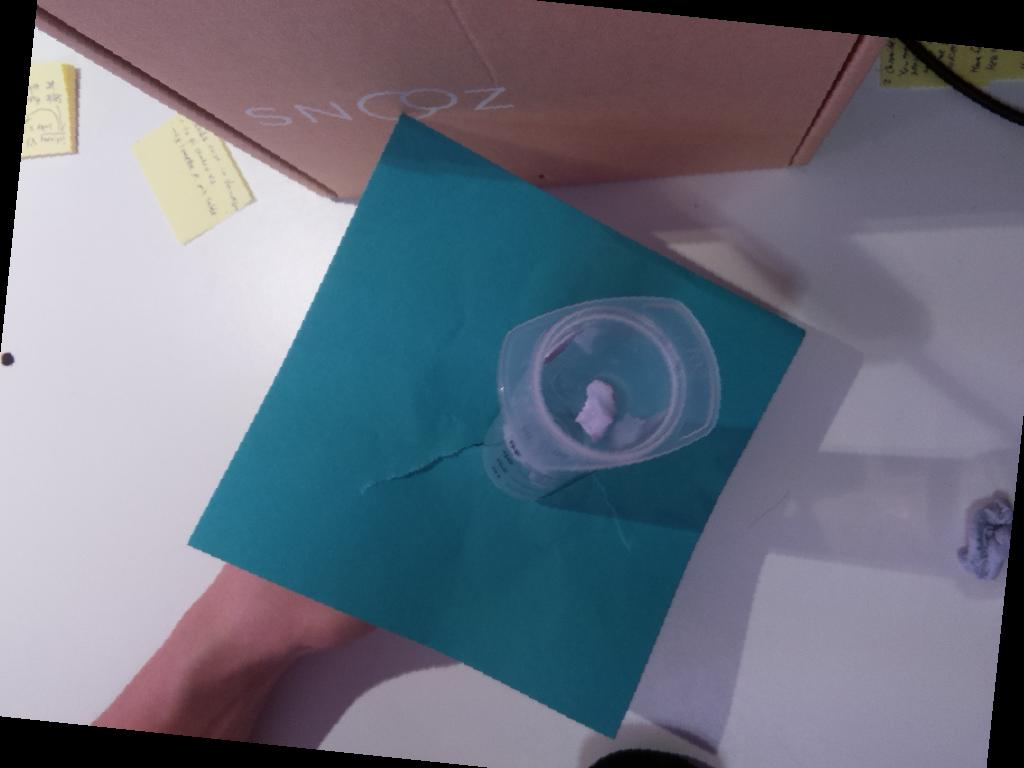dirty: (497, 294, 723, 467)
